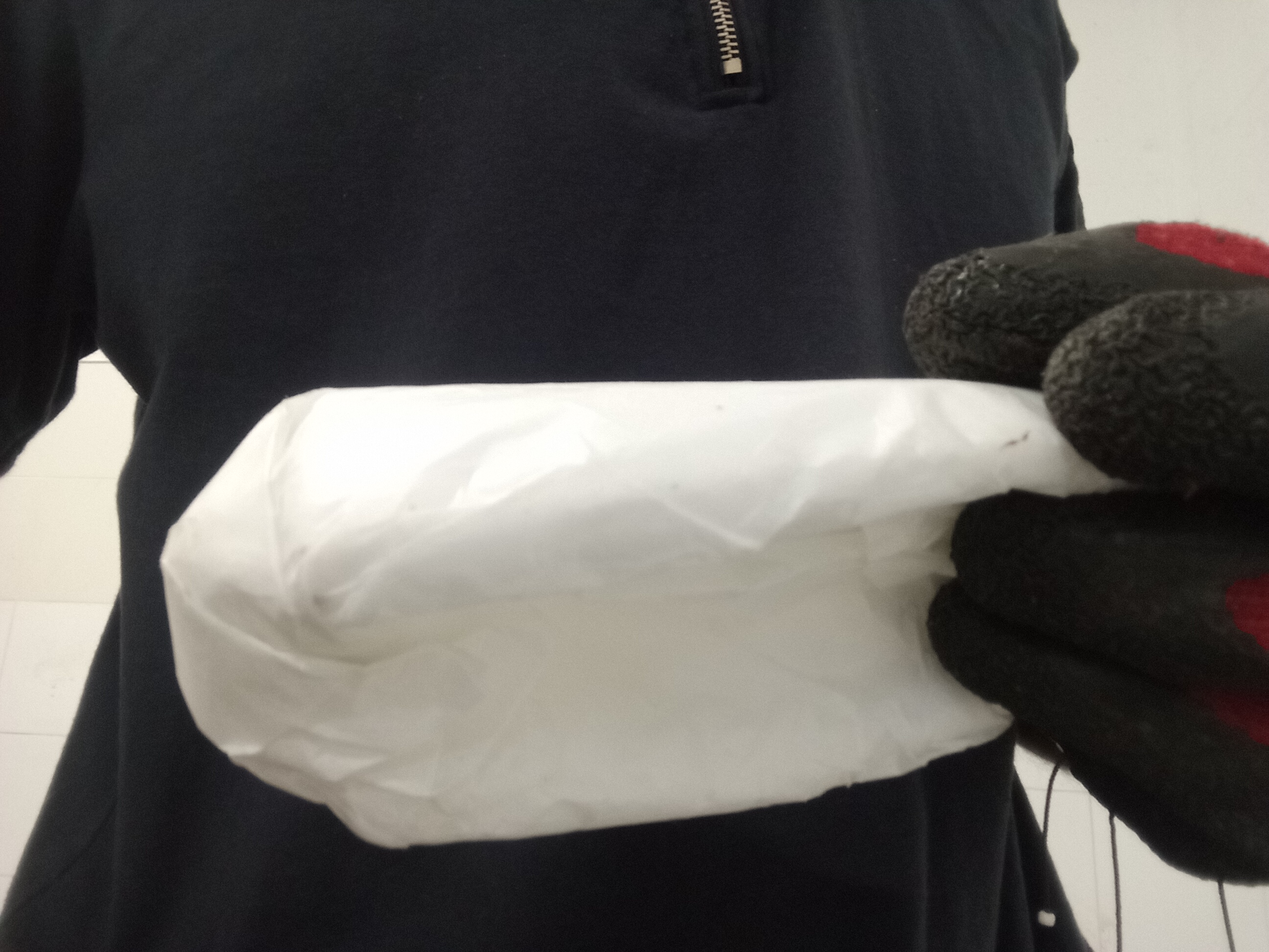Ordinario: (161, 377, 1111, 850)
